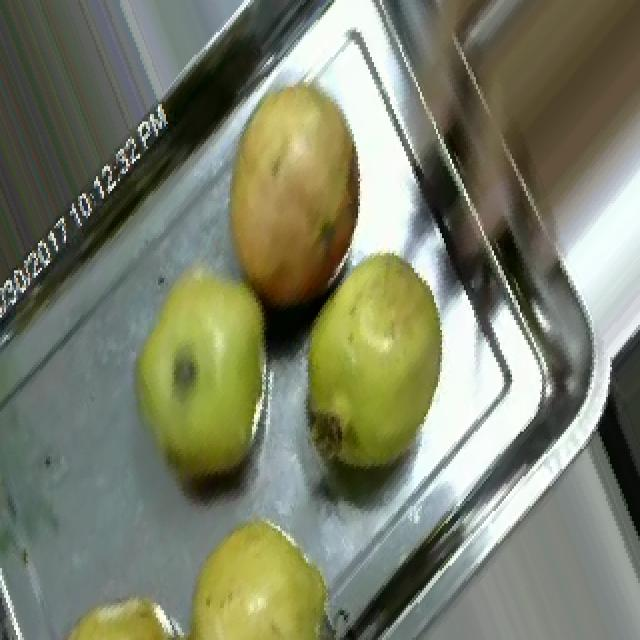fruit: (272, 226, 474, 501), (196, 60, 392, 338), (168, 496, 356, 640), (32, 570, 202, 640)
